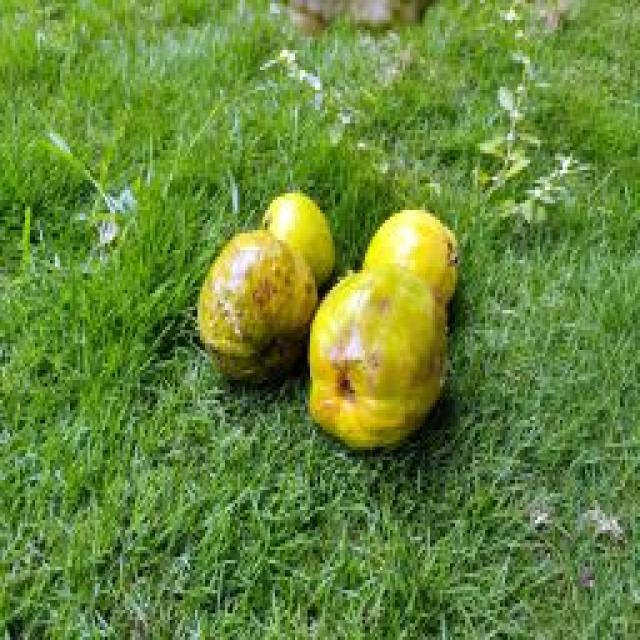Organik: (303, 245, 470, 460), (189, 217, 314, 377), (354, 186, 478, 312), (266, 178, 346, 284)
